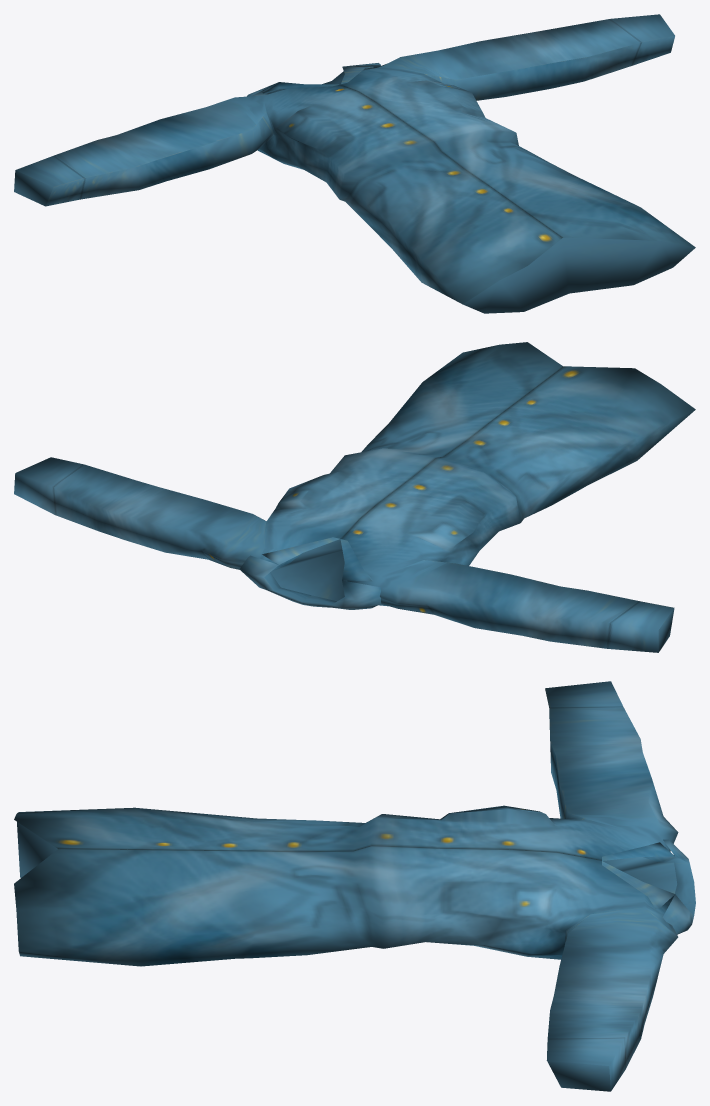
The model's file is Kurtk_7_Ground.fbx.
The picture shows the model from 3 angles, top to bottom: view 1: azimuth 30°, elevation 25°; view 2: azimuth 150°, elevation 25°; view 3: azimuth 270°, elevation 25°; orthographic projection. The views are drawn at different scales.
Visible parts, largest first — view 1: Body.034; view 2: Body.034; view 3: Body.034.
Boxes of the visible parts, <box> form: Body.034: <box>14,14,695,313</box>; Body.034: <box>14,342,695,652</box>; Body.034: <box>14,681,695,1091</box>.
Size of the model in its own units: 0.7508 by 0.0638 by 0.5624.
